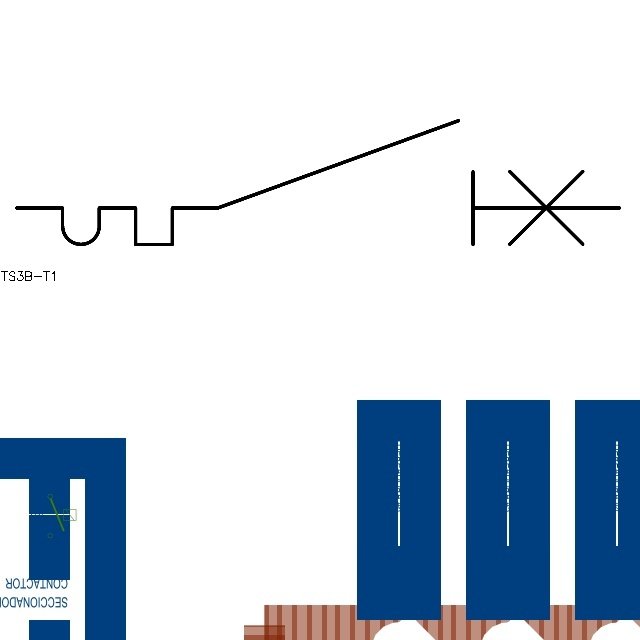interruptor_termomagnetico: (1, 105, 634, 260)
